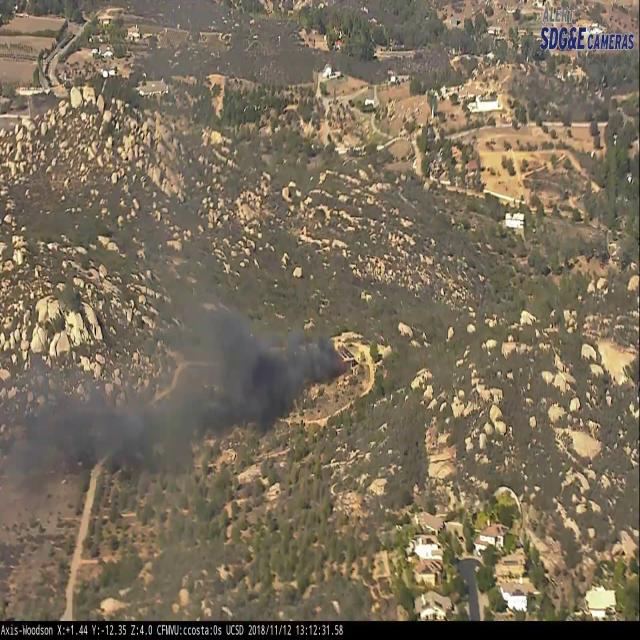smoke: (63, 0, 356, 375), (0, 336, 337, 516)
